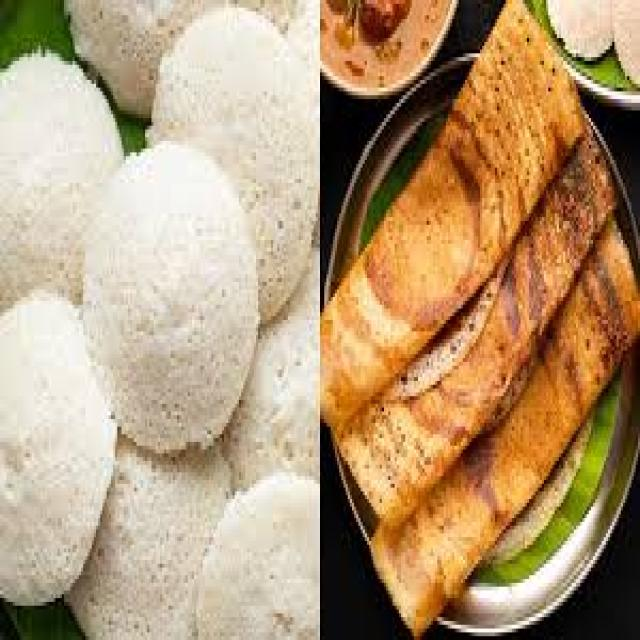DOSA: (371, 225, 636, 632), (322, 0, 578, 415), (337, 137, 608, 518)
IDLI: (83, 141, 262, 446), (149, 11, 318, 316), (0, 293, 115, 602), (68, 438, 230, 636), (0, 50, 122, 309), (198, 450, 318, 636)
